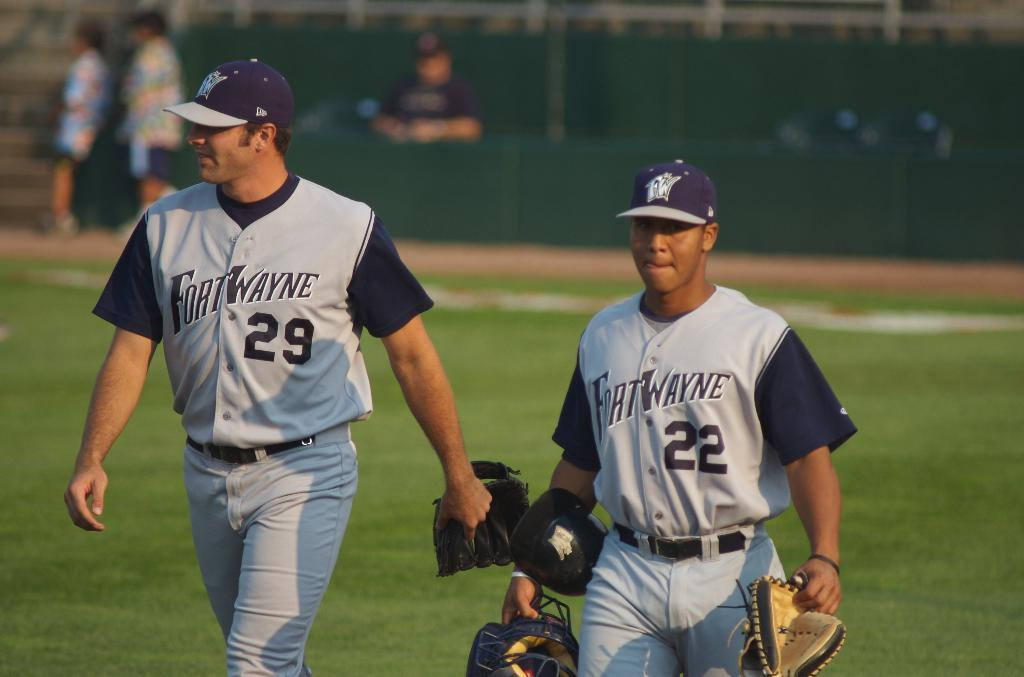Hat: (162, 50, 292, 130), (610, 157, 718, 226)
